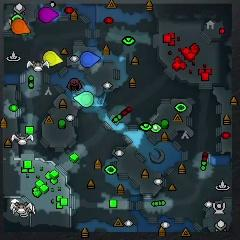p1: (80, 52, 101, 67)
p2: (73, 91, 95, 108)
p3: (38, 7, 59, 23)
p4: (43, 51, 64, 66)
p5: (11, 18, 30, 34)
